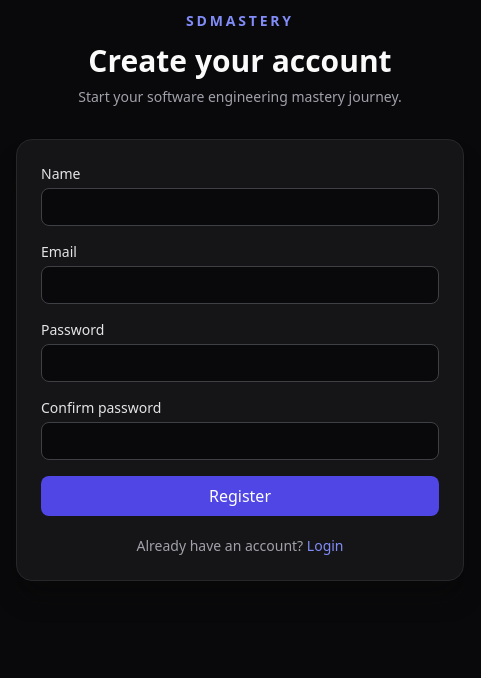
Test: RegisterPage › shows inline validation errors
Click the button "Register" at (240, 496), box [41,476,439,516]
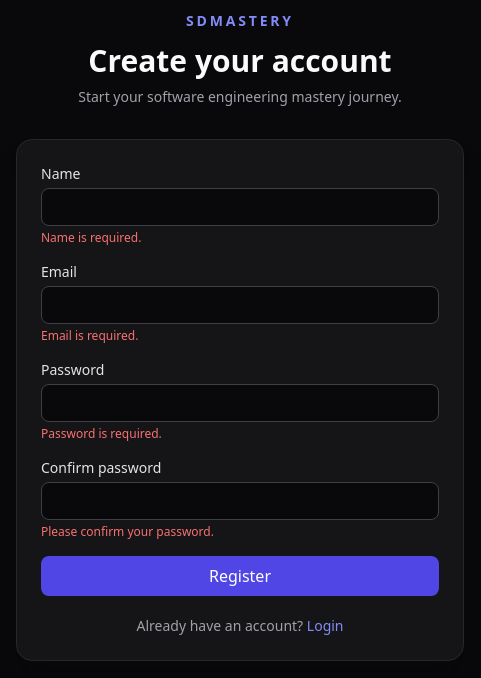
Expected: the text "Name is required." is shown, [41,229,141,246]
Expected: the text "Email is required." is shown, [41,327,138,344]
Expected: the text "Password is required." is shown, [41,425,162,442]
